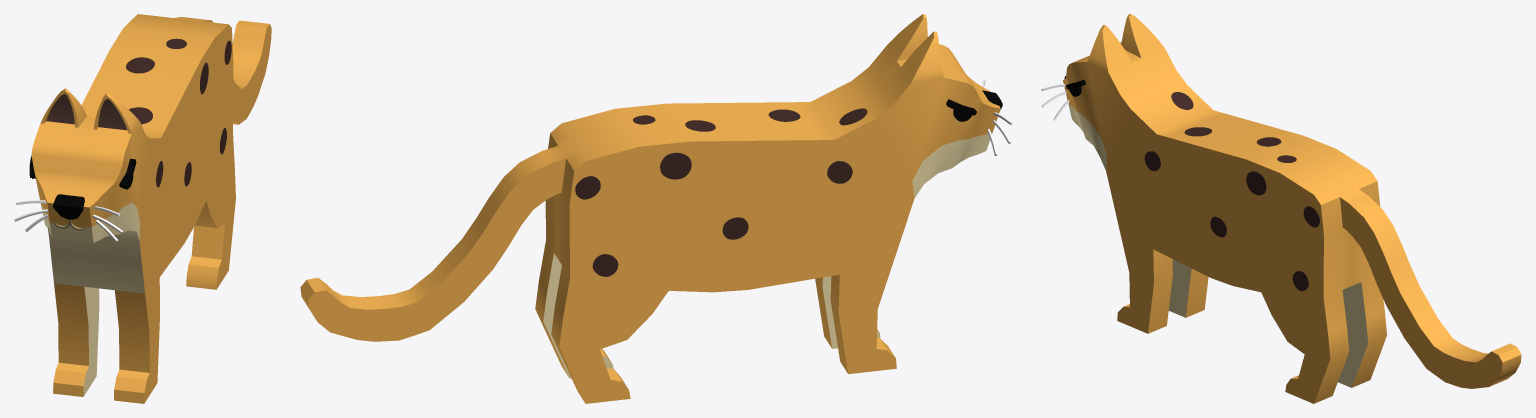
Rendered from leopard.gltf.
3 renders of one model, left to right at view 1: azimuth 30°, elevation 25°; view 2: azimuth 150°, elevation 25°; view 3: azimuth 270°, elevation 25°, orthographic. The views are drawn at different scales.
Parts seen in each view (by area): view 1: Plane.156, Circle.1951, Cube.008, Circle.1948, Circle.1949; view 2: Plane.156, Circle.1951; view 3: Plane.156, Circle.1951.
Part boxes in pixels (bbox=[...]): Plane.156: bbox=[31, 14, 271, 403]; Circle.1951: bbox=[126, 38, 231, 187]; Cube.008: bbox=[14, 200, 122, 242]; Circle.1948: bbox=[53, 194, 84, 219]; Circle.1949: bbox=[29, 155, 136, 188]; Plane.156: bbox=[300, 14, 1000, 403]; Circle.1951: bbox=[575, 108, 867, 276]; Plane.156: bbox=[1063, 14, 1521, 403]; Circle.1951: bbox=[1144, 92, 1319, 290].
Size of the model in its own units: 2.5 by 1.6 by 2.5.
1 material, 1 textured.
